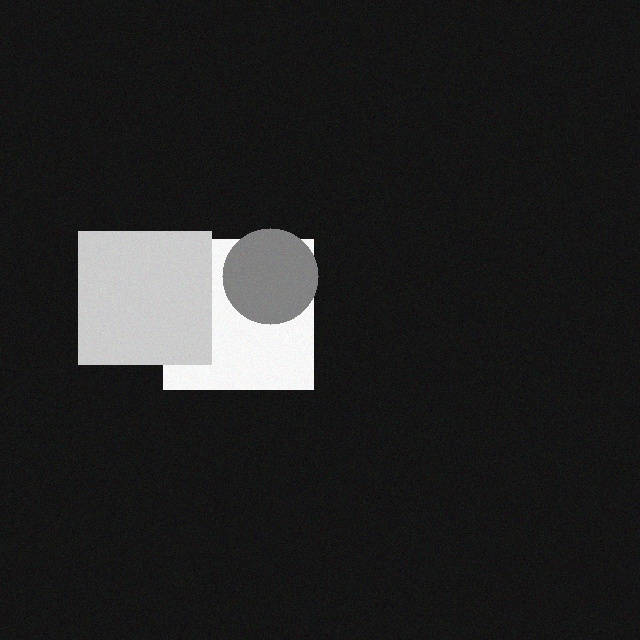circle: (214, 223, 310, 319)
square: (155, 234, 305, 384), (70, 226, 203, 359)
